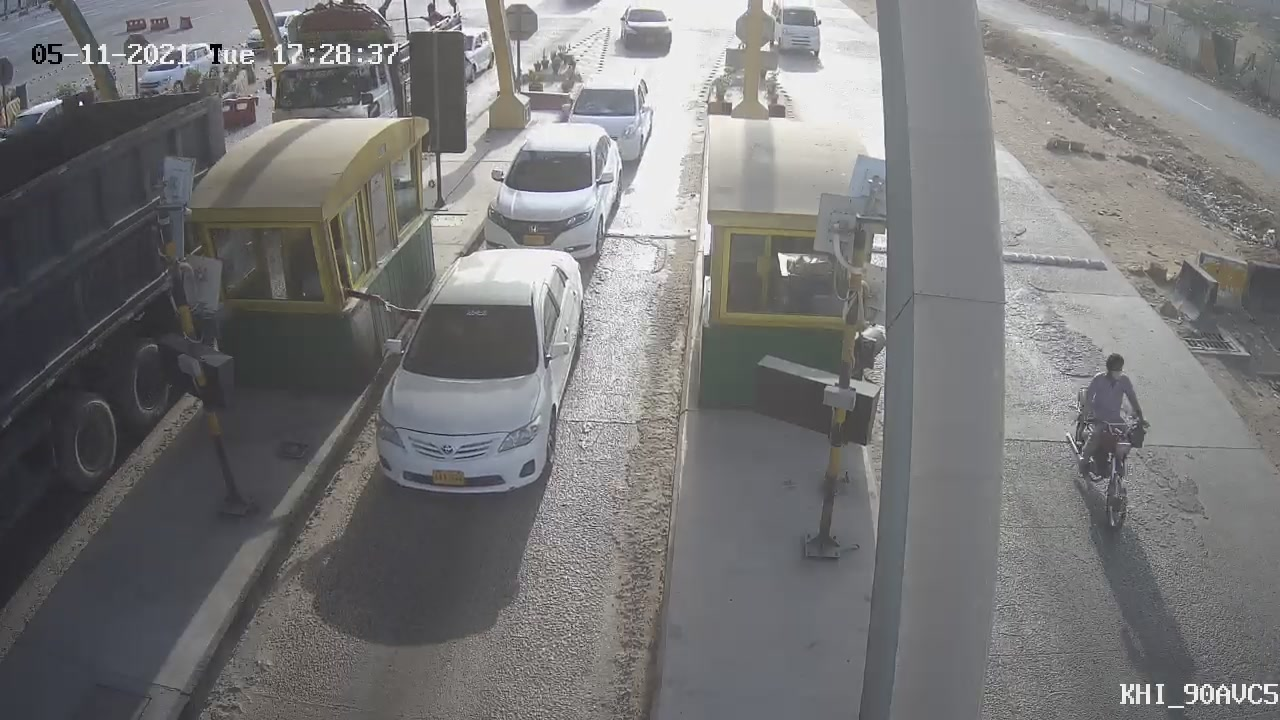F1: (350, 229, 603, 521), (463, 108, 637, 279)
